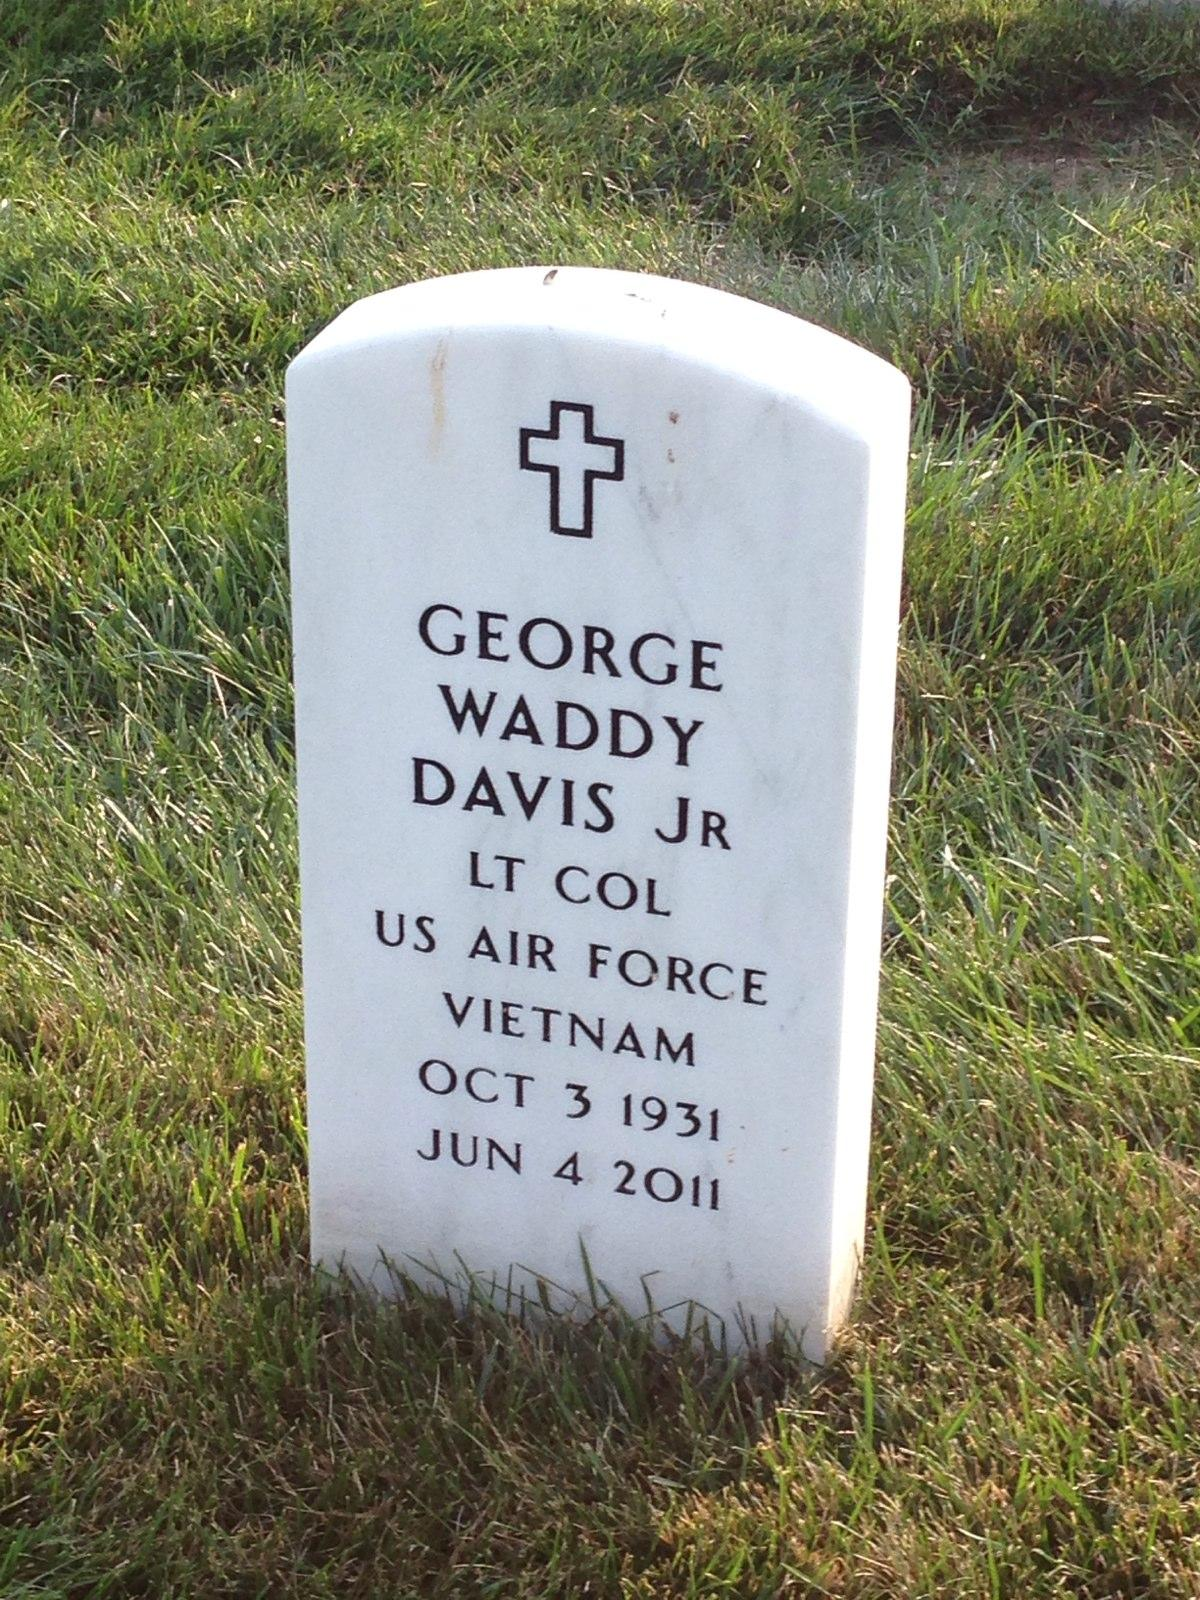military: (229, 244, 930, 1393)
